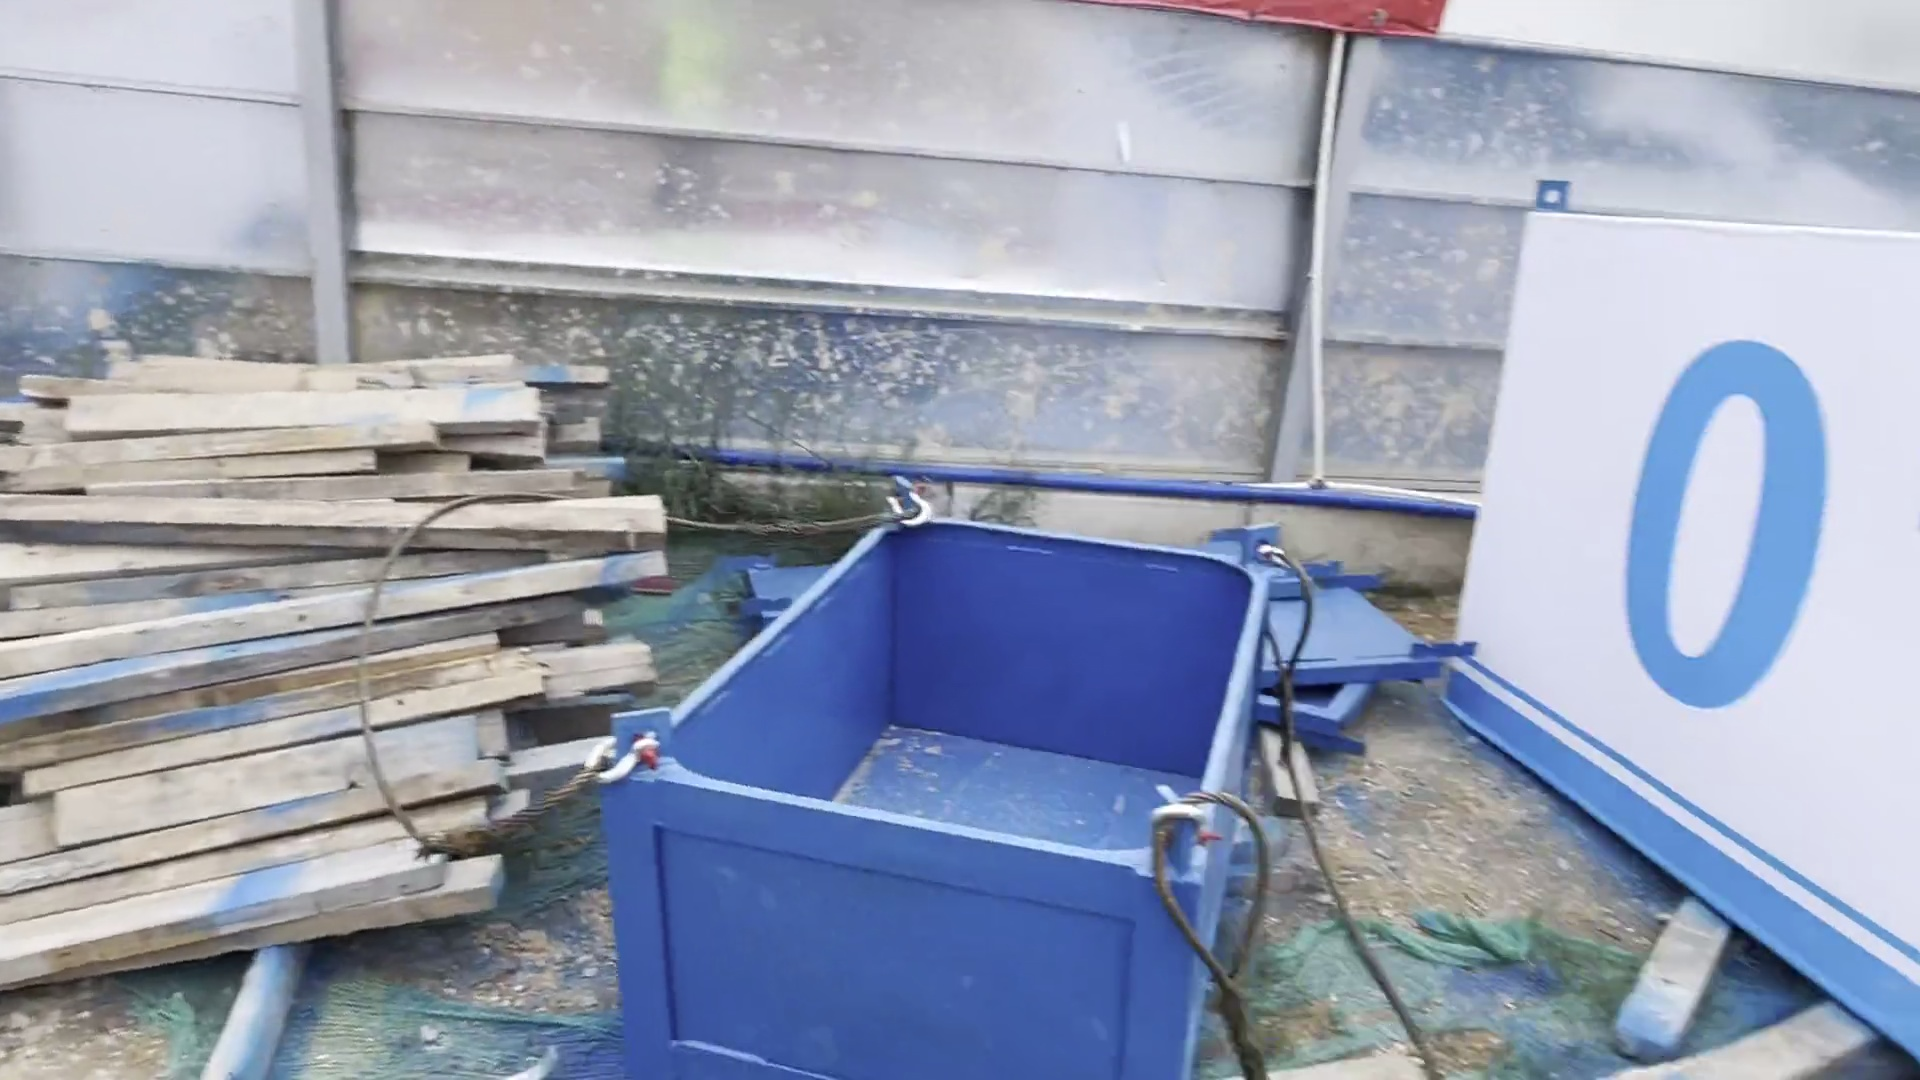hopper: (626, 483, 1321, 1080)
wood: (3, 319, 611, 964)
